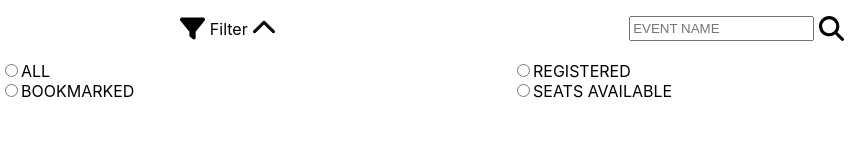
Control Panel › should hide filter when filter icon is clicked
The image size is (861, 160).
Click the text "Filter": (229, 28) [210, 16, 248, 41]
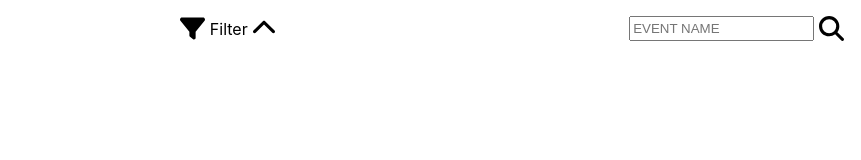
Expected: the text "ALL" is gone
